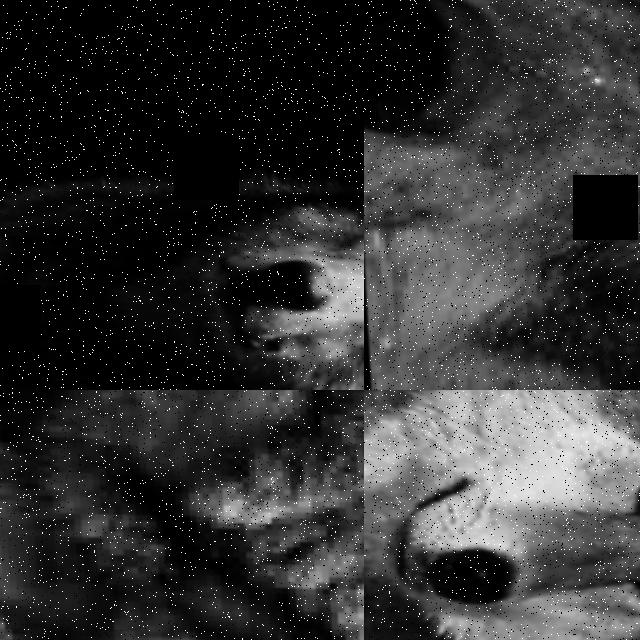wolf: (364, 0, 640, 390), (0, 125, 364, 390), (0, 390, 364, 640), (364, 390, 640, 640)
